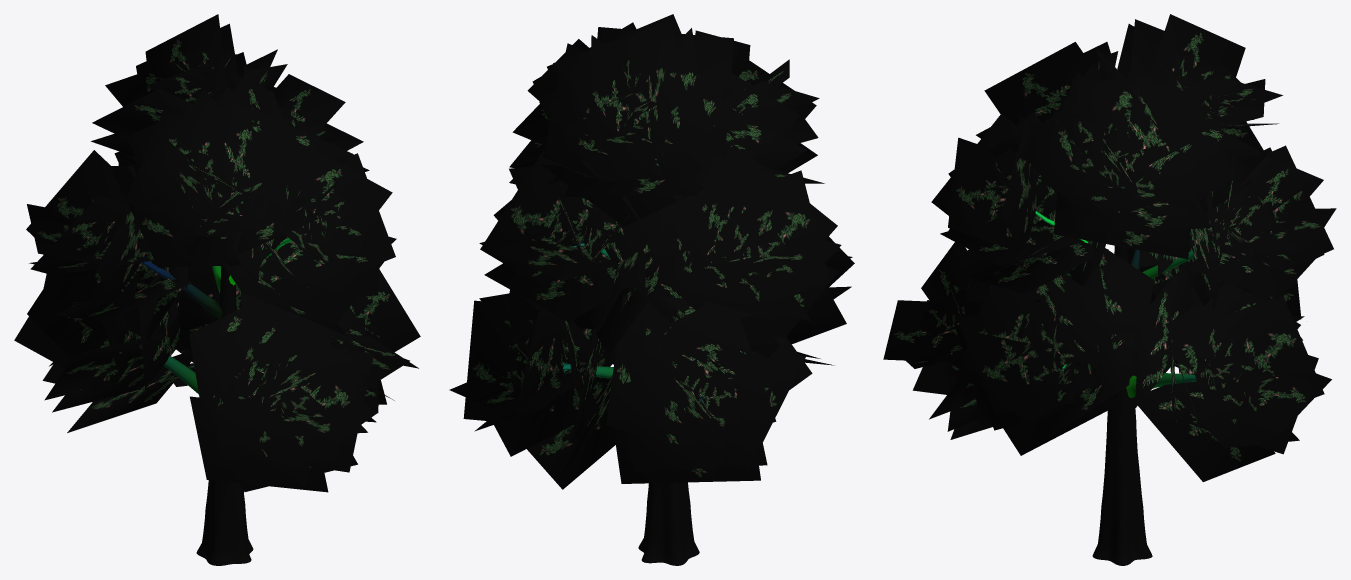
Rendered from Tree It test.fbx.
The picture shows the model from 3 angles, left to right: view 1: azimuth 30°, elevation 25°; view 2: azimuth 150°, elevation 25°; view 3: azimuth 270°, elevation 25°; orthographic projection. The views are drawn at different scales.
Parts seen in each view (by area): view 1: Tree_1, Tree_0; view 2: Tree_1, Tree_0; view 3: Tree_1, Tree_0.
Boxes of the visible parts, x1,y1,x2,y2 form: Tree_1: [14, 14, 420, 492]; Tree_0: [141, 238, 291, 565]; Tree_1: [449, 14, 854, 489]; Tree_0: [563, 117, 703, 565]; Tree_1: [883, 14, 1336, 481]; Tree_0: [1035, 173, 1214, 565].
Size of the model in its own units: 85.12 by 128 by 99.23.
